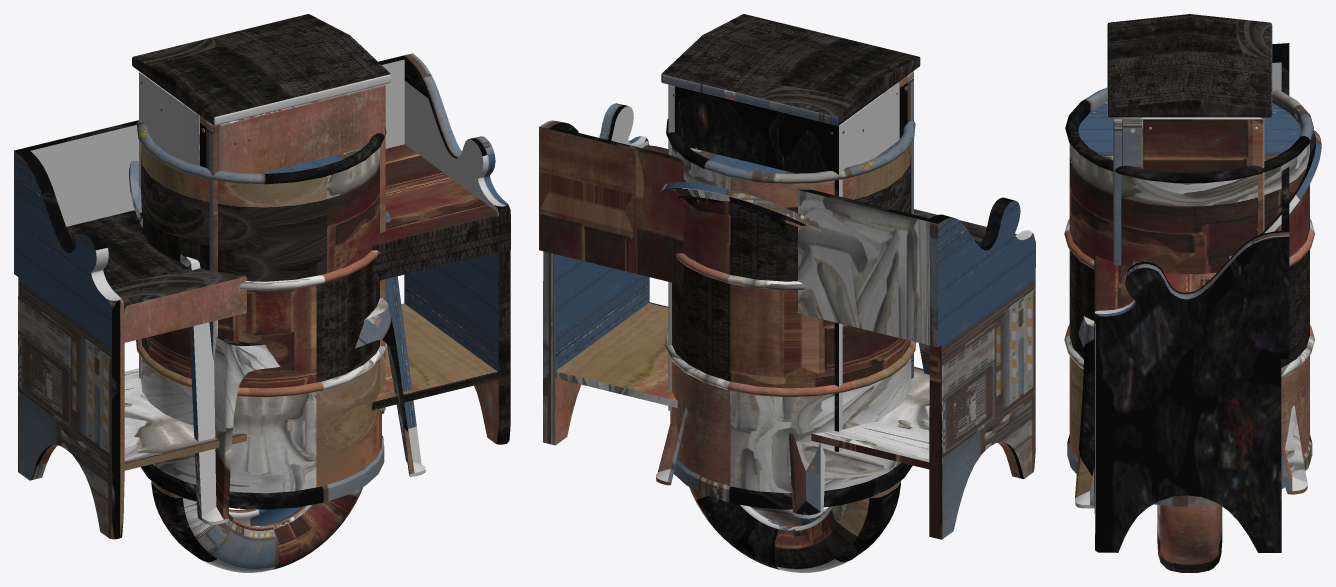
File: street-props.glb
3 renders of one model, left to right at view 1: azimuth 30°, elevation 25°; view 2: azimuth 150°, elevation 25°; view 3: azimuth 270°, elevation 25°, orthographic.
Visible parts, largest first — view 1: bench.002, Circle.002, Cube.028, Plane.002, tire_lo; view 2: bench.002, Circle.002, Cube.028, tire_lo, Plane.002; view 3: bench.002, Circle.002, Cube.028, Plane.002, tire_lo.
Part boxes in pixels (x1=…): bench.002: x1=14, y1=53, x2=510, y2=539; Circle.002: x1=136, y1=120, x2=386, y2=509; Cube.028: x1=132, y1=14, x2=391, y2=414; Plane.002: x1=129, y1=161, x2=425, y2=525; tire_lo: x1=151, y1=480, x2=362, y2=572; bench.002: x1=539, y1=103, x2=1035, y2=539; Circle.002: x1=665, y1=118, x2=916, y2=509; Cube.028: x1=661, y1=14, x2=920, y2=451; tire_lo: x1=689, y1=480, x2=901, y2=572; Plane.002: x1=656, y1=182, x2=929, y2=518; bench.002: x1=1094, y1=43, x2=1289, y2=552; Circle.002: x1=1064, y1=87, x2=1314, y2=506; Cube.028: x1=1107, y1=14, x2=1272, y2=265; Plane.002: x1=1075, y1=130, x2=1321, y2=508; tire_lo: x1=1157, y1=505, x2=1222, y2=572.
Size of the model in its own units: 1.16 by 1.42 by 0.6553.
7 materials, 7 textured.
